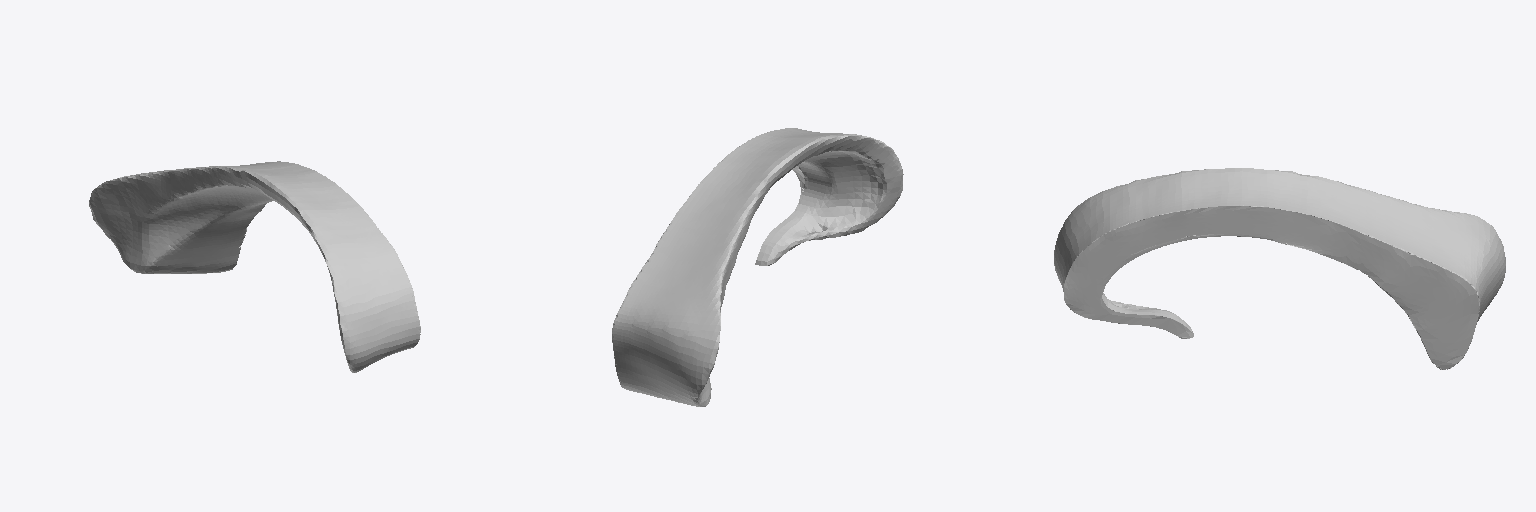
File: Corpus_callosum2.obj
3 renders of one model, left to right at view 1: azimuth 30°, elevation 25°; view 2: azimuth 150°, elevation 25°; view 3: azimuth 270°, elevation 25°, orthographic.
Visible parts, largest first — view 1: obj0; view 2: obj0; view 3: obj0.
Boxes of the visible parts, x1,y1,x2,y2 form: obj0: [89, 161, 420, 372]; obj0: [612, 128, 903, 406]; obj0: [1054, 168, 1505, 369].
Bounding box in the file's own units: 12.7 × 18.5 × 43.58.